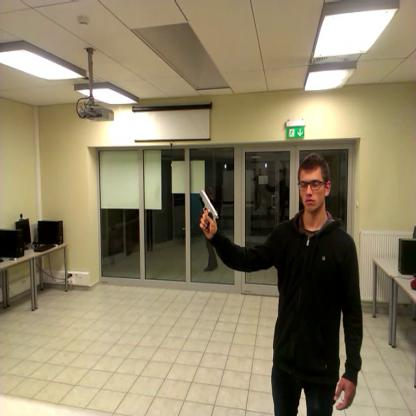Pistol: (195, 183, 225, 247)
